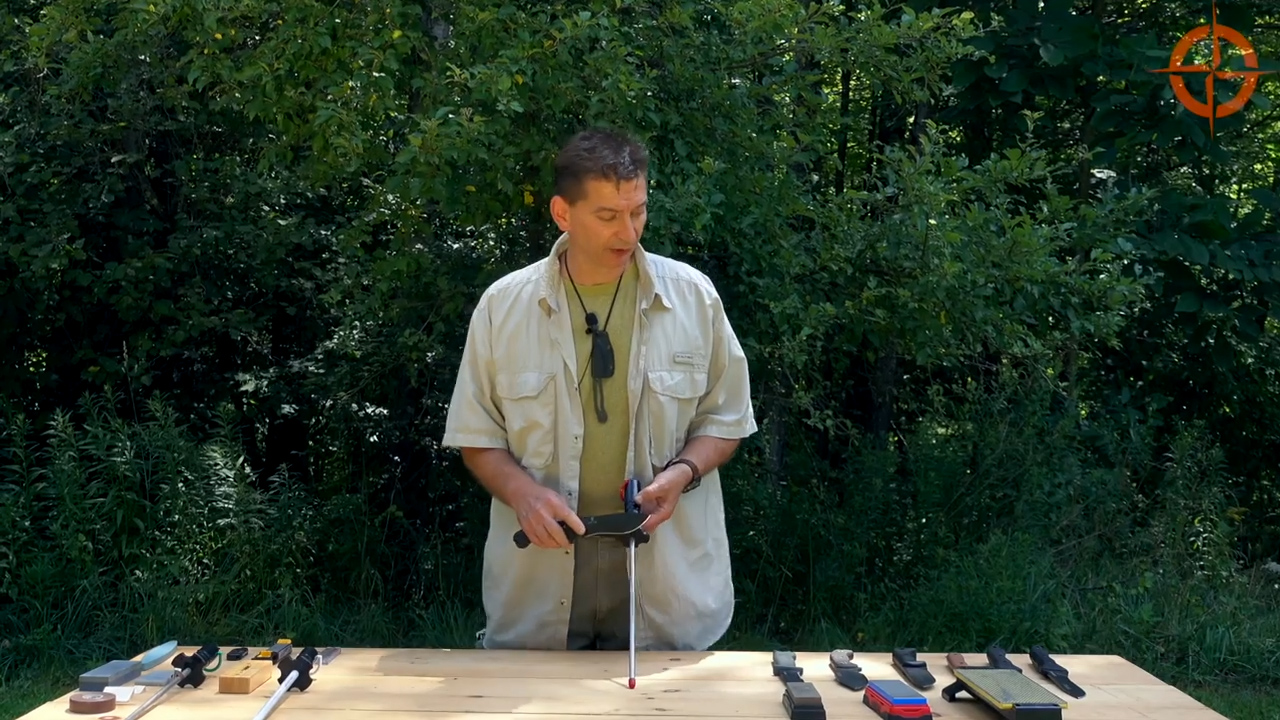knife: (510, 509, 654, 551)
